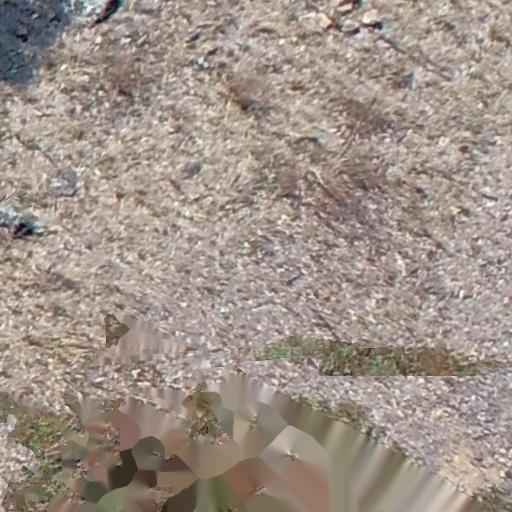stone: (300, 11, 334, 35), (332, 0, 360, 13), (361, 8, 382, 25), (341, 19, 359, 34)
